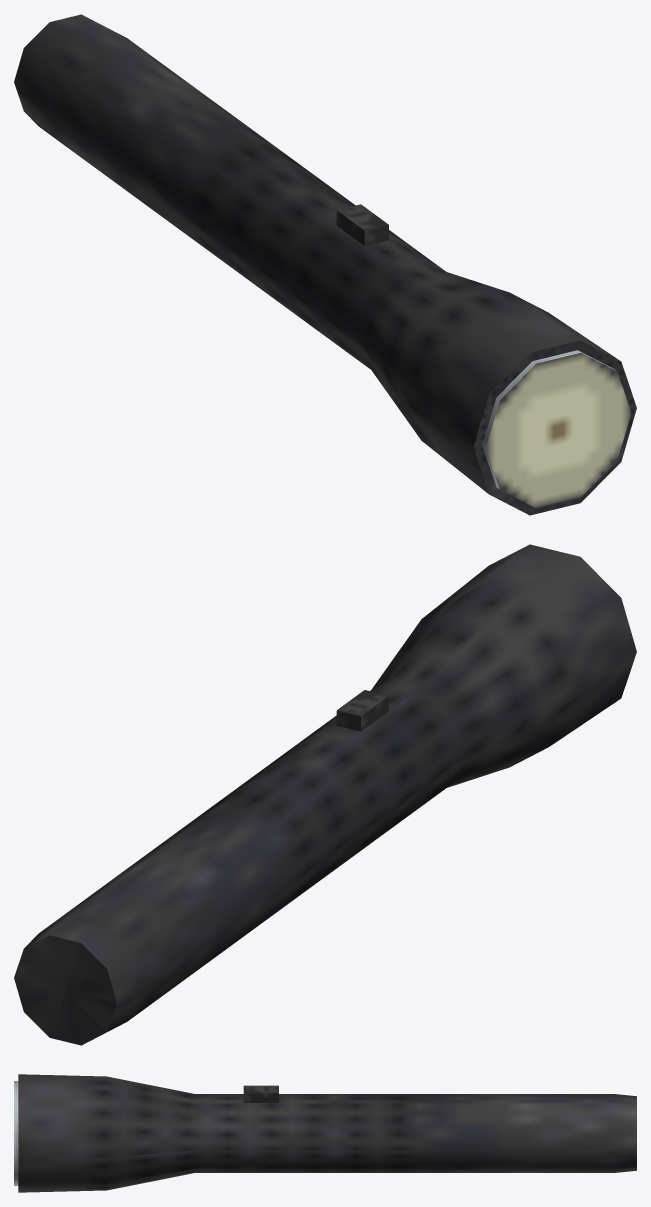
The model's file is flashlight.obj.
3 views of the same model, one above another, from view 1: azimuth 30°, elevation 25°; view 2: azimuth 150°, elevation 25°; view 3: azimuth 270°, elevation 25° (orthographic). The views are drawn at different scales.
Parts seen in each view (by area): view 1: flashlight, flashlight_lens, flashlight_switch; view 2: flashlight, flashlight_switch; view 3: flashlight, flashlight_switch, flashlight_lens.
Part boxes in pixels (x1,y1,x2,y2): flashlight: [14, 14, 636, 515]; flashlight_lens: [482, 350, 631, 508]; flashlight_switch: [336, 204, 388, 245]; flashlight: [14, 544, 636, 1045]; flashlight_switch: [336, 690, 388, 731]; flashlight: [18, 1074, 636, 1192]; flashlight_switch: [243, 1085, 278, 1102]; flashlight_lens: [14, 1081, 18, 1185].
Bounding box in the file's own units: 0.054 × 0.0514 × 0.282.
1 material, 1 textured.
